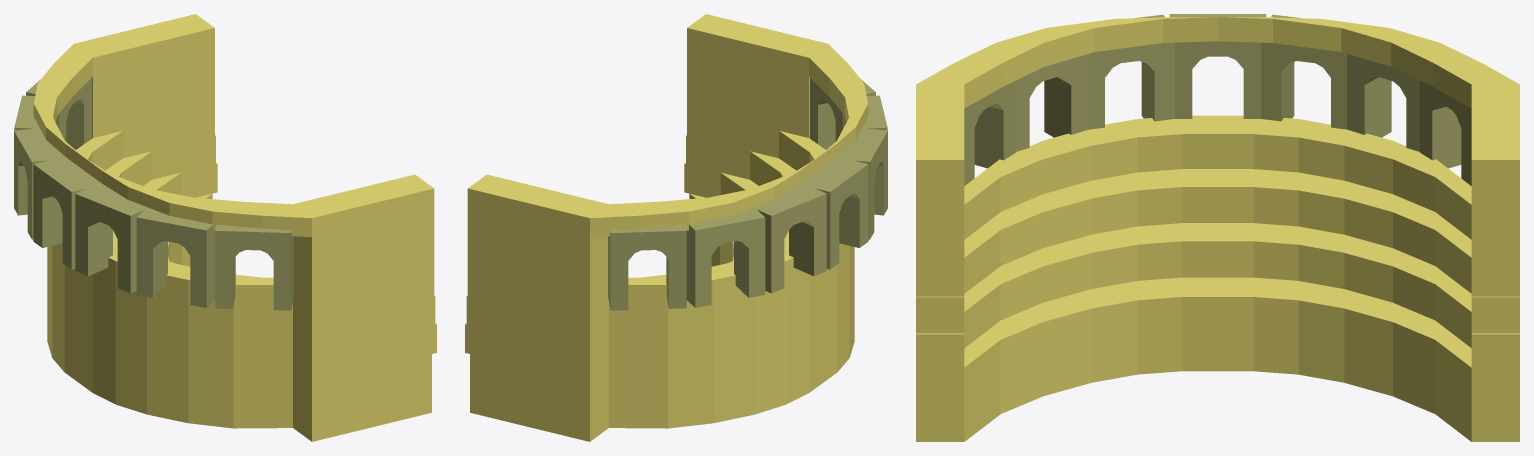
The model's file is Backgroundcolosseum.glb.
3 views of the same model, side by side, from view 1: azimuth 30°, elevation 25°; view 2: azimuth 150°, elevation 25°; view 3: azimuth 270°, elevation 25° (orthographic). The views are drawn at different scales.
Visible parts, largest first — view 1: Cube, Cube.002, Cube.001; view 2: Cube, Cube.002, Cube.001; view 3: Cube, Cube.002, Cube.001.
Part boxes in pixels (bbox=[...]): Cube: bbox=[33, 14, 436, 441]; Cube.002: bbox=[14, 78, 293, 310]; Cube.001: bbox=[33, 158, 102, 269]; Cube: bbox=[465, 14, 868, 441]; Cube.002: bbox=[608, 78, 887, 310]; Cube.001: bbox=[799, 158, 868, 269]; Cube: bbox=[916, 17, 1519, 441]; Cube.002: bbox=[964, 14, 1471, 185]; Cube.001: bbox=[1169, 14, 1266, 118].
Bounding box in the file's own units: 16.88 × 13.6 × 26.26.
